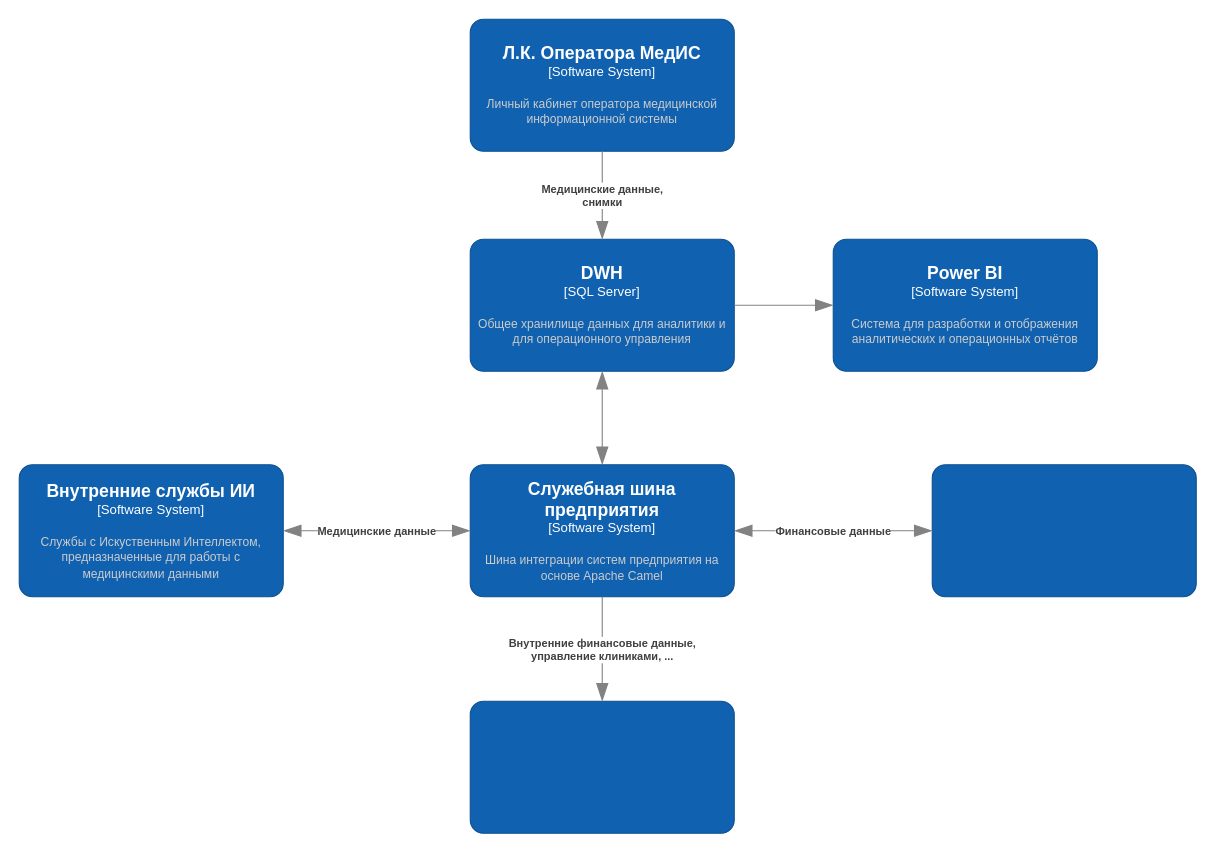
This 1216x853 diagram has some shape labels left out. The shapes that lost their labels are listed below. From the top down, each one's centre as x and y in pixels, then its label:
At point 1063,530: "ФинТех Службы [Software System] Набор служб, выполняющих финансовые задачи".
At point 601,766: "Внутренние службы [Software System] Description of software system.".
